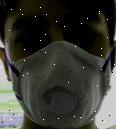with_mask: (2, 1, 116, 129)
